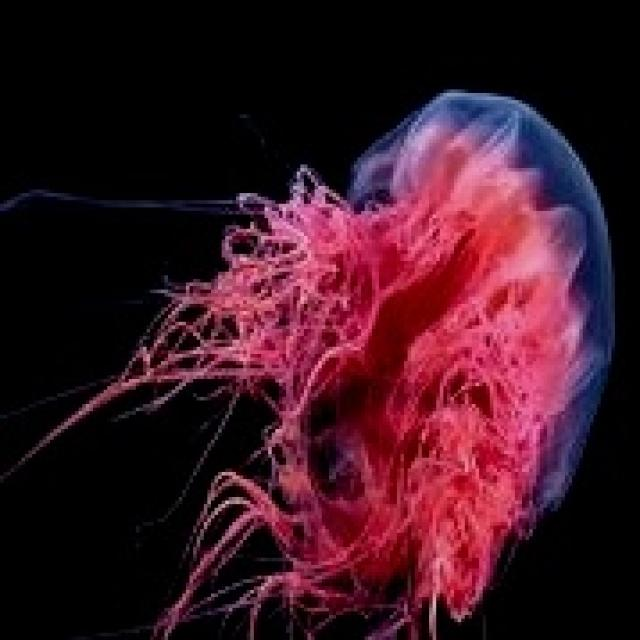Box-jellyfish: (0, 86, 615, 636)
